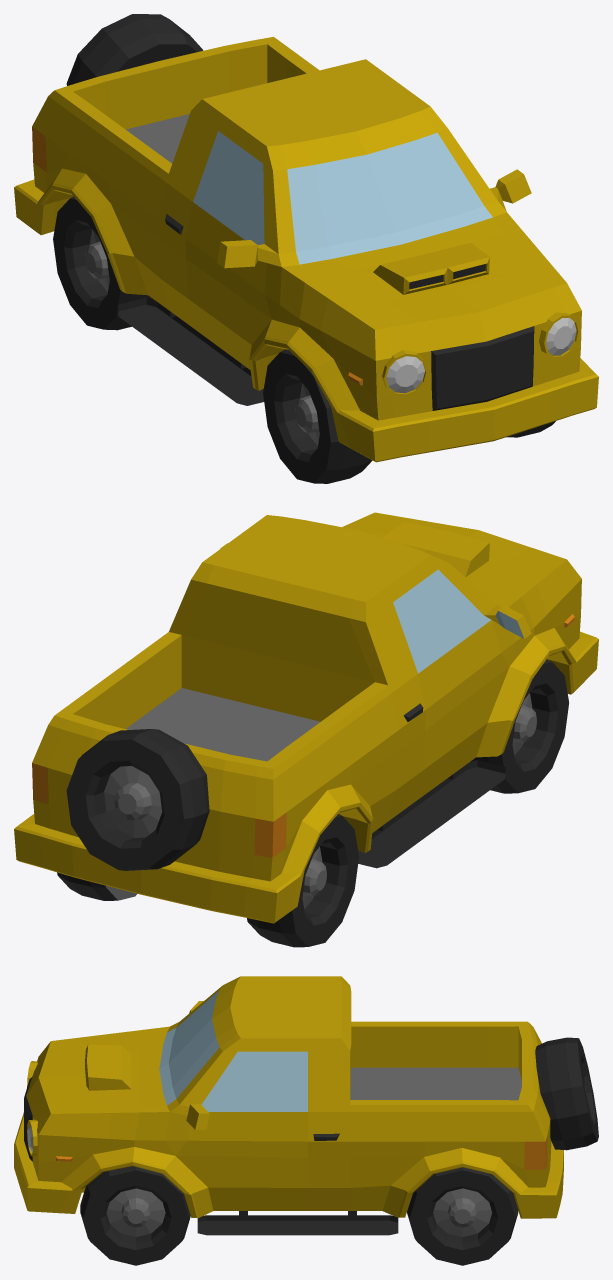
File: car.glb
The picture shows the model from 3 angles, top to bottom: view 1: azimuth 30°, elevation 25°; view 2: azimuth 150°, elevation 25°; view 3: azimuth 270°, elevation 25°; orthographic projection. The views are drawn at different scales.
Parts seen in each view (by area): view 1: Jeep.001; view 2: Jeep.001; view 3: Jeep.001.
Boxes of the visible parts, x1=… form: Jeep.001: x1=14, y1=14, x2=598, y2=483; Jeep.001: x1=14, y1=512, x2=598, y2=947; Jeep.001: x1=14, y1=976, x2=598, y2=1265.
Size of the model in its own units: 4.26 by 3.68 by 9.03.
1 material, 1 textured.
